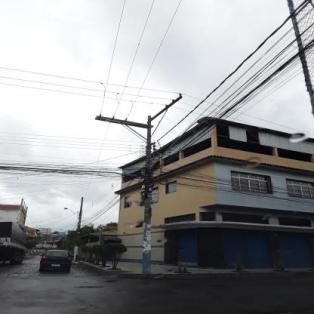Poste: (141, 115, 155, 273)
